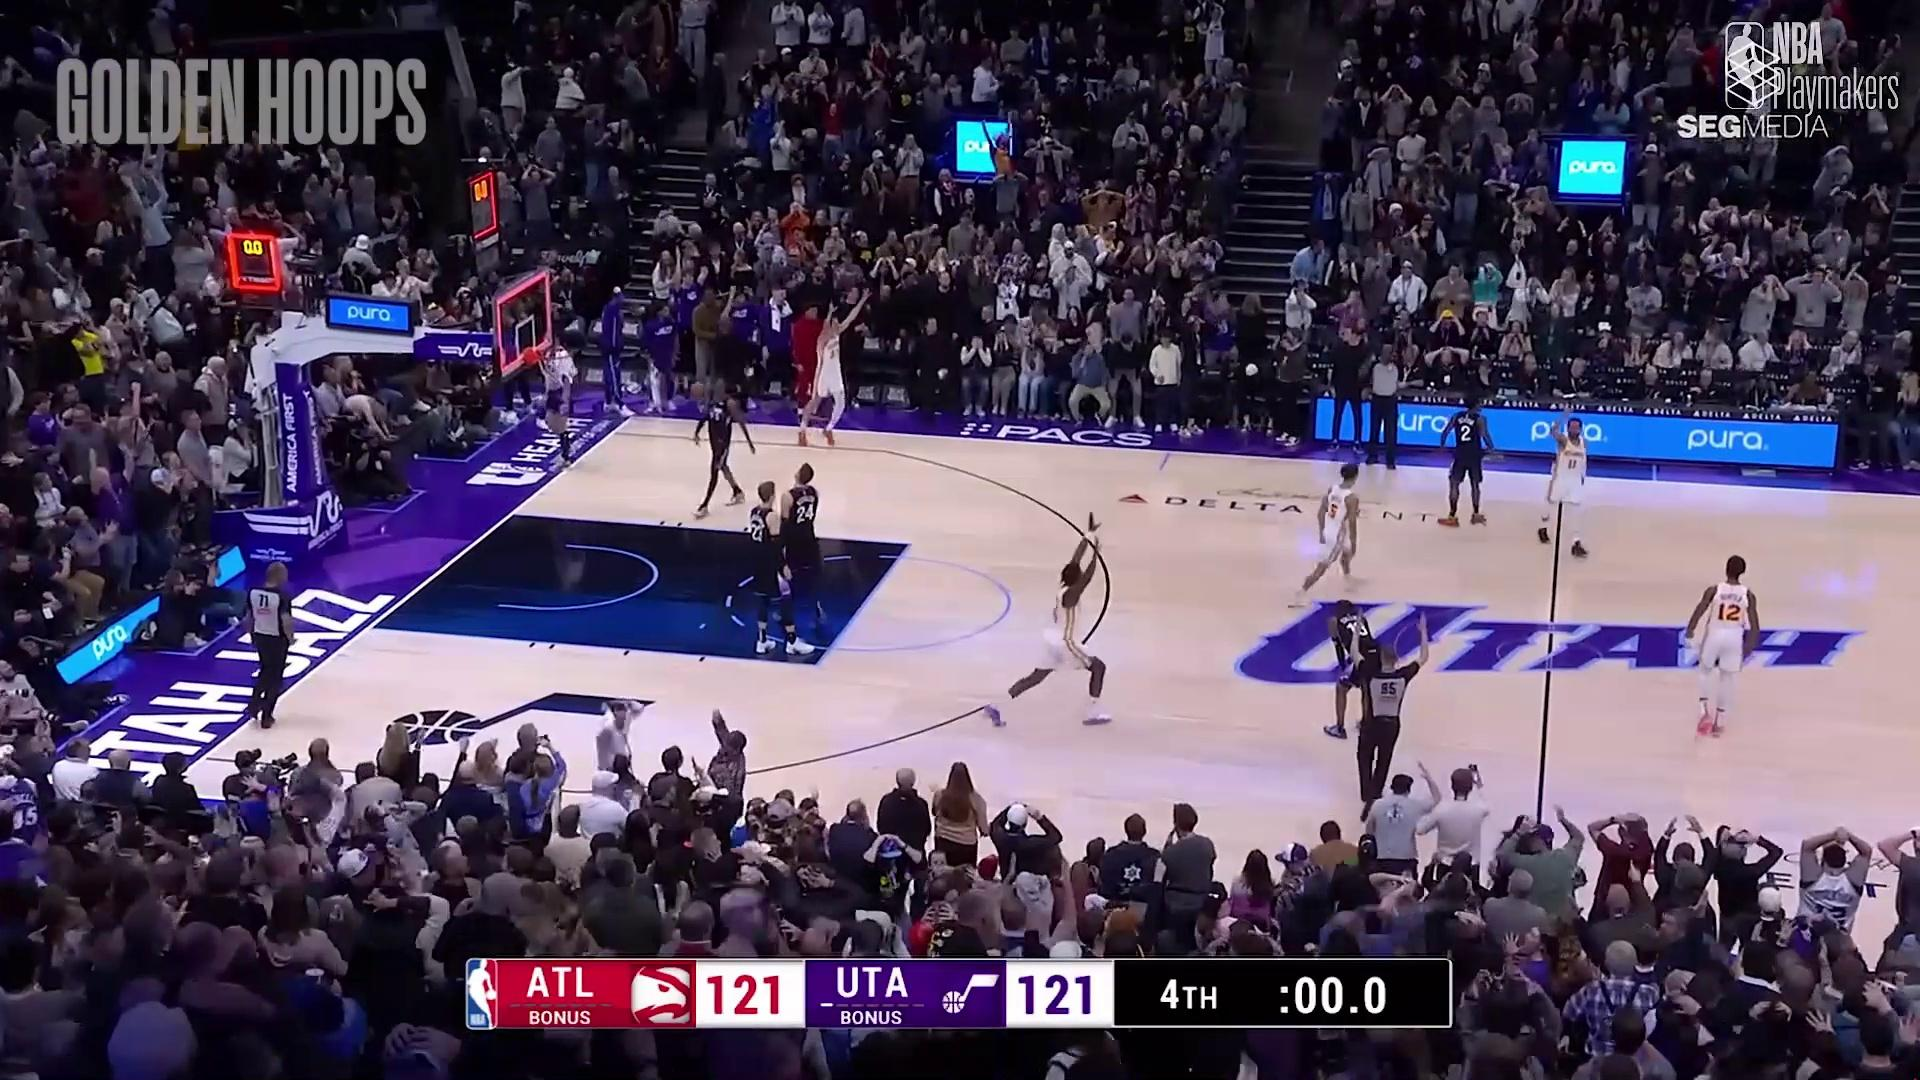hoop: (535, 336, 570, 388)
